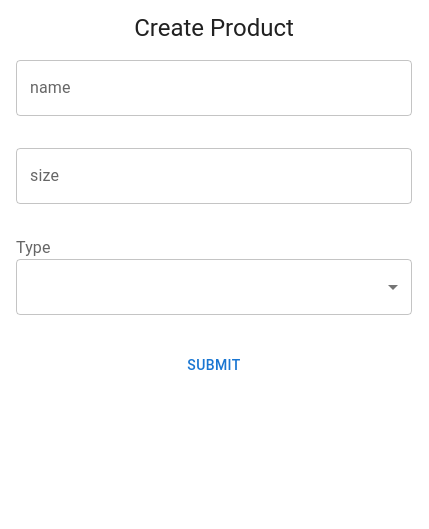
when the form is mounted › when the user submits the form without values
Check: the text "the name is required" is not shown
Check: the text "the size is required" is not shown
Click the button "Submit" at (214, 365), box [16,347,412,384]
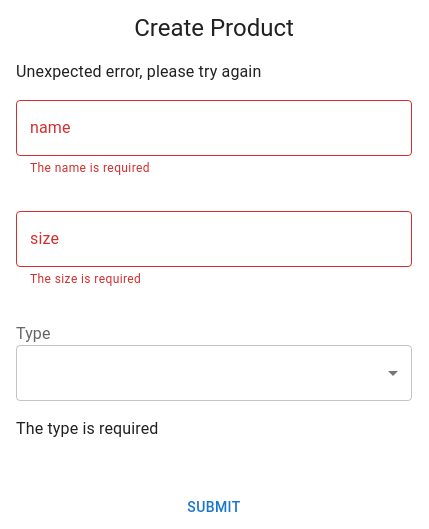
Check: the text "The name is required" is shown, box [30,161,150,175]
Check: the text "The size is required" is shown, box [30,272,141,286]
Check: the text "The type is required" is shown, box [16,419,158,438]
